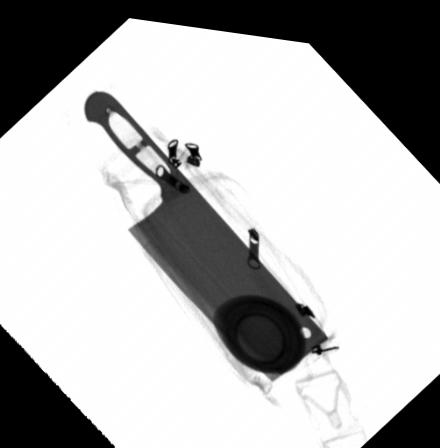Knife: (82, 86, 329, 375)
